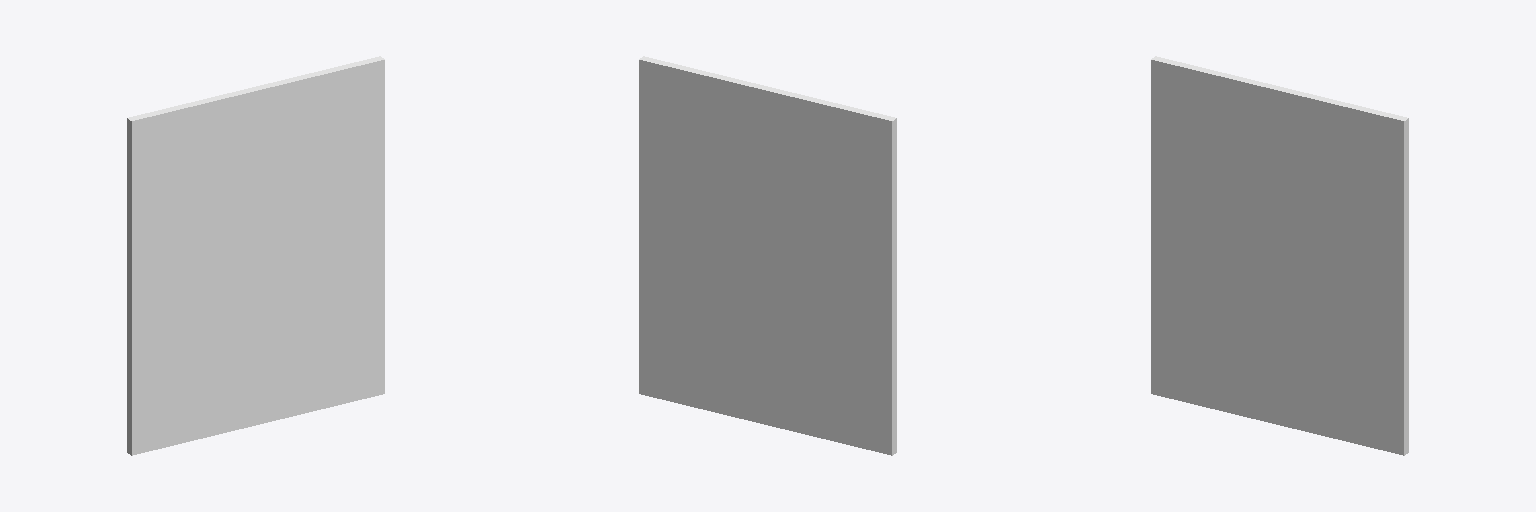
The model's file is original-36.obj.
3 views of the same model, side by side, from view 1: azimuth 30°, elevation 25°; view 2: azimuth 150°, elevation 25°; view 3: azimuth 330°, elevation 25° (orthographic).
Visible parts, largest first — view 1: dp2_1/dp2/mesh24/mesh24-geometry#mesh24-geometry; view 2: dp2_1/dp2/mesh24/mesh24-geometry#mesh24-geometry; view 3: dp2_1/dp2/mesh24/mesh24-geometry#mesh24-geometry.
Boxes of the visible parts, box(x1,y1,x2,y2) form: dp2_1/dp2/mesh24/mesh24-geometry#mesh24-geometry: box(127, 56, 384, 455); dp2_1/dp2/mesh24/mesh24-geometry#mesh24-geometry: box(639, 56, 896, 455); dp2_1/dp2/mesh24/mesh24-geometry#mesh24-geometry: box(1151, 56, 1408, 455).
Bounding box in the file's own units: 0.811 × 1.02 × 0.0255.